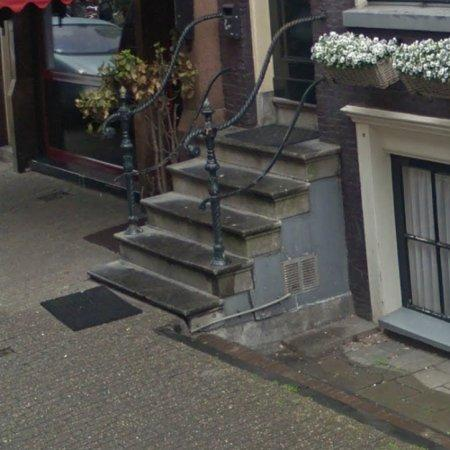stairs: (91, 129, 353, 346), (217, 126, 284, 192)
